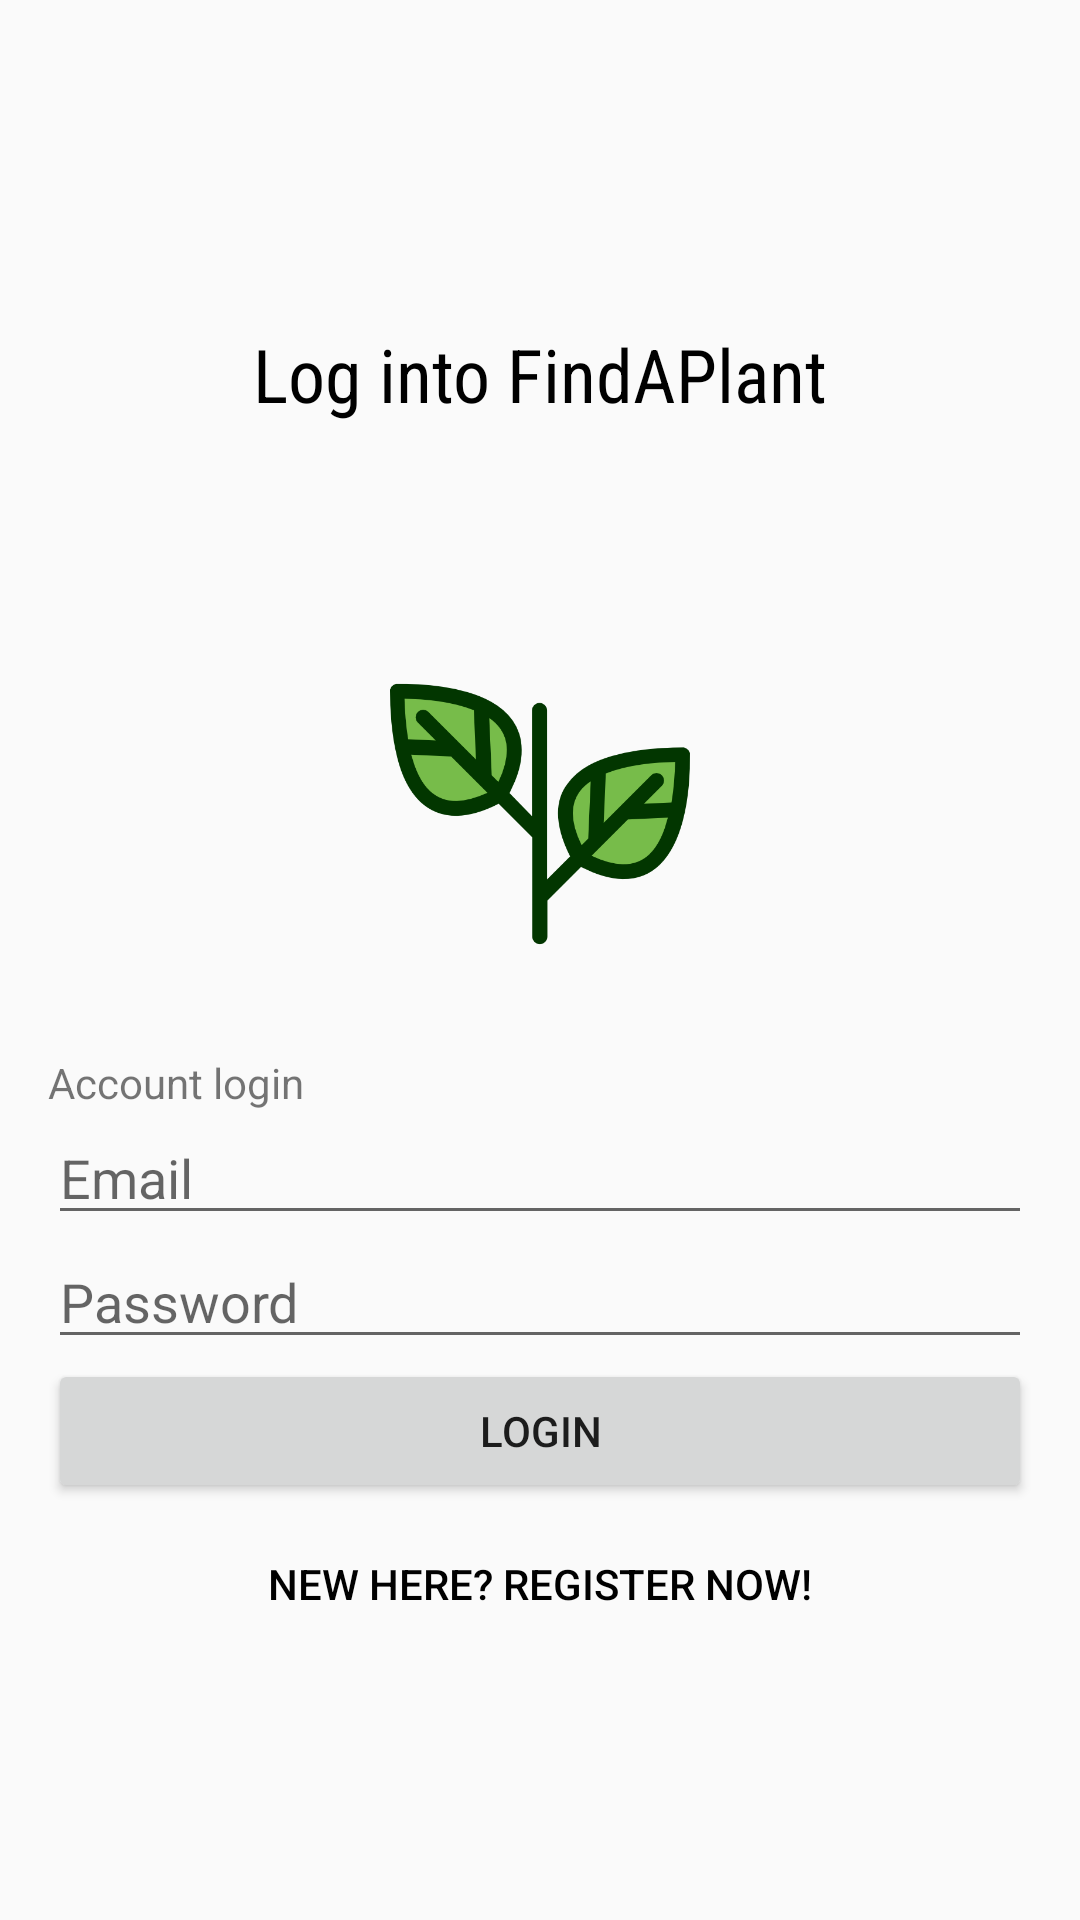

Icon bounding boxes for this 1080 × 1920 phone screenshot, format (x1, y1, x2, y2):
leaf: (390, 684, 690, 944)
